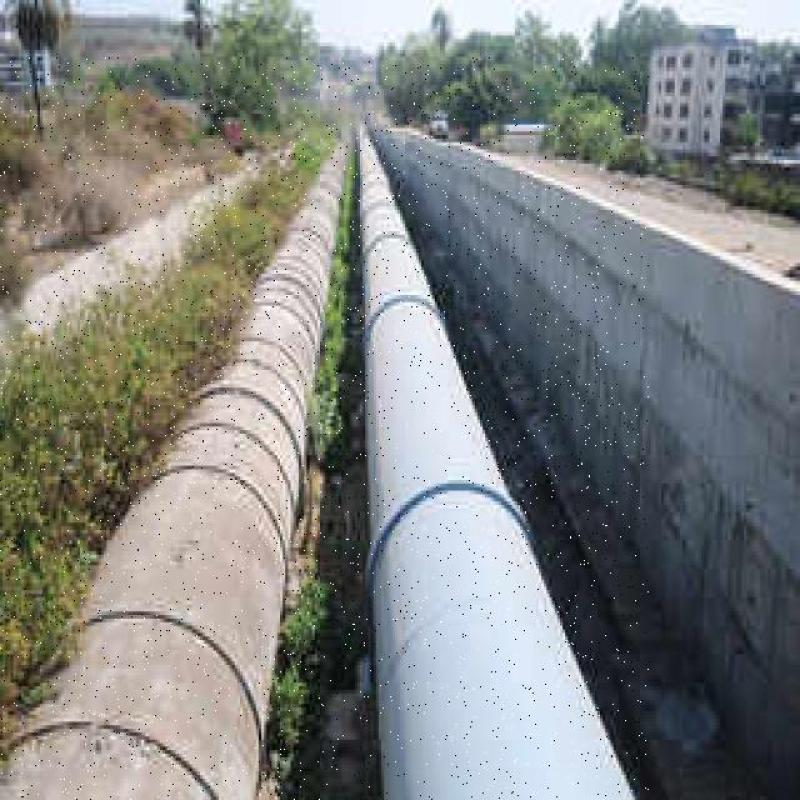Healthy: (1, 67, 648, 800)
